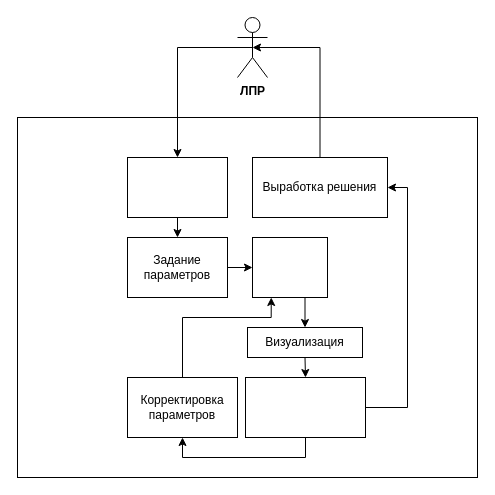
This 495x495 diagram has some shape labels left out. The shapes that lost their labels are listed below. From the top down, each one's box as (x1, y1, x2, y2) in pixels, then its label:
(126, 156, 228, 218): Ввод информации о СТО
(252, 236, 328, 298): Расчет ИПЭ
(244, 376, 366, 438): Оценка результатов
